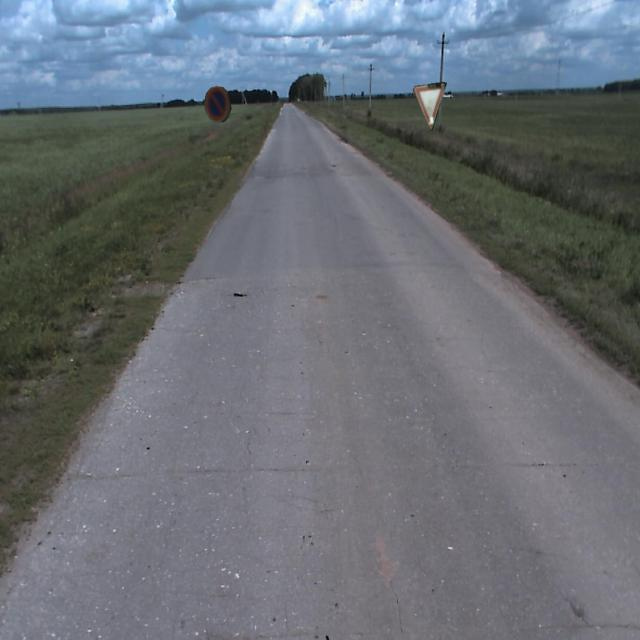road: (0, 102, 639, 639)
